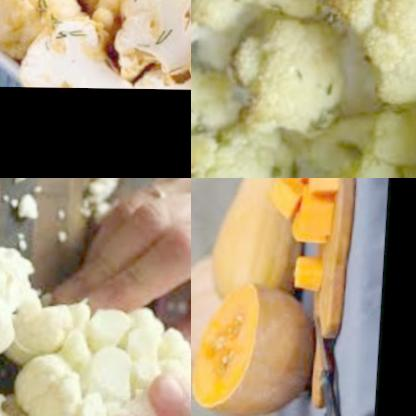cayliflower: (0, 235, 191, 416), (0, 0, 191, 88), (223, 7, 349, 134), (306, 0, 416, 107), (306, 96, 416, 178), (191, 106, 314, 178), (191, 48, 252, 138), (191, 0, 260, 49)
pumpkin: (191, 280, 325, 416), (205, 178, 313, 293), (191, 243, 237, 381), (268, 178, 336, 243), (292, 250, 329, 293)
